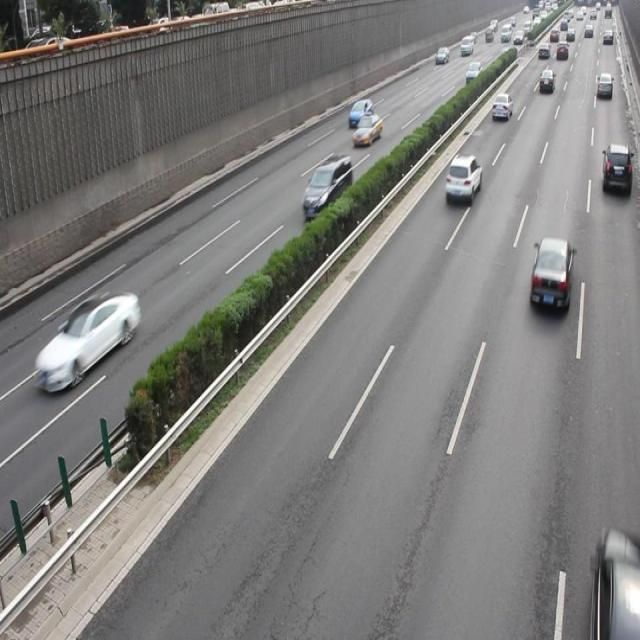car: (38, 287, 140, 390), (587, 525, 640, 640), (528, 234, 572, 312), (443, 154, 481, 204), (601, 142, 631, 197), (351, 112, 380, 146), (347, 97, 371, 128)
truck: (301, 153, 352, 222)
